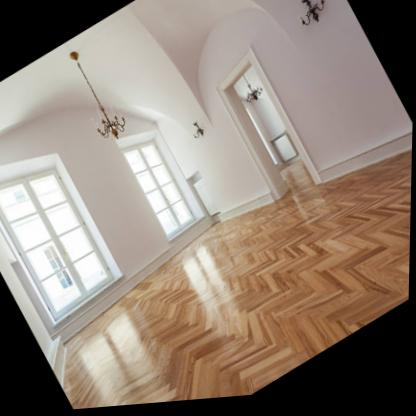Window: (0, 167, 117, 322), (122, 142, 197, 243)
Wooden floor: (64, 155, 413, 411)
